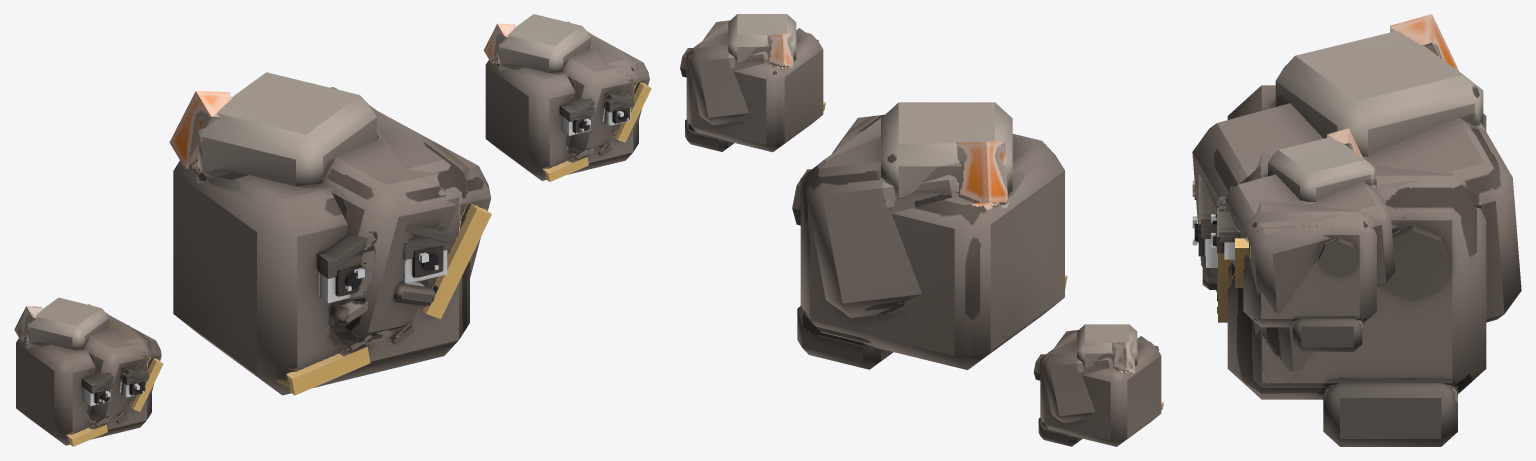
The model's file is TrioAsteroides_Rig.fbx.
The picture shows the model from 3 angles, left to right: view 1: azimuth 30°, elevation 25°; view 2: azimuth 150°, elevation 25°; view 3: azimuth 270°, elevation 25°; orthographic projection. The views are drawn at different scales.
Visible parts, largest first — view 1: Body, Moons; view 2: Body, Moons; view 3: Body, Moons.
Boxes of the visible parts, <box> form: Body: <box>169,72,491,395</box>; Moons: <box>14,14,651,446</box>; Body: <box>792,102,1067,369</box>; Moons: <box>680,14,1163,446</box>; Body: <box>1192,14,1521,446</box>; Moons: <box>1211,128,1395,351</box>.
Bounding box in the file's own units: 10.23 × 6 × 4.61.
1 material, 1 textured.
